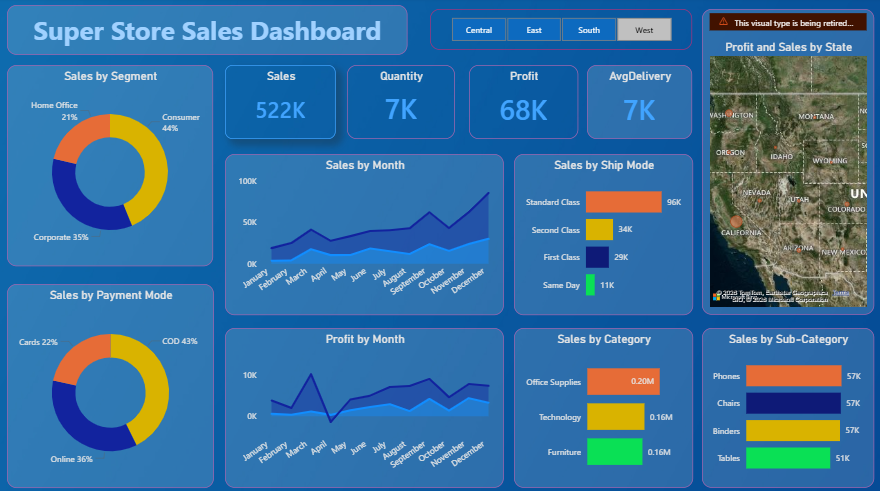

The dashboard page shown, as its layout file describes it:
{"tool":"powerbi","page":{"name":"Page 1","canvas":[1280,720],"ordinal":0},"visuals":[{"type":"clusteredBarChart","title":"Sales by Category","fields":{"Category":["SuperStore_Sales_Dataset.Category"],"Y":["Sum(SuperStore_Sales_Dataset.Sales)"]},"box":[747.5,478.6,258.8,231.3],"z":0},{"type":"clusteredBarChart","title":"Sales by Sub-Category","fields":{"Category":["SuperStore_Sales_Dataset.Sub-Category"],"Y":["Sum(SuperStore_Sales_Dataset.Sales)"]},"box":[1019.3,478.6,248.7,231.3],"z":1000},{"type":"clusteredBarChart","title":"Sales by Ship Mode","fields":{"Category":["SuperStore_Sales_Dataset.Ship Mode"],"Y":["Sum(SuperStore_Sales_Dataset.Sales)"]},"box":[747.5,227,258.8,232.8],"z":2000},{"type":"stackedAreaChart","title":"Sales by Month","fields":{"Y":["Sum(SuperStore_Sales_Dataset.Sales)"],"Category":["SuperStore_Sales_Dataset.Order Date.Variation.Date Hierarchy.Month"],"Series":["SuperStore_Sales_Dataset.Order Date.Variation.Date Hierarchy.Year"]},"box":[329.6,227,403.4,232.8],"z":3000},{"type":"stackedAreaChart","title":"Profit by Month","fields":{"Category":["SuperStore_Sales_Dataset.Order Date.Variation.Date Hierarchy.Month"],"Series":["SuperStore_Sales_Dataset.Order Date.Variation.Date Hierarchy.Year"],"Y":["Sum(SuperStore_Sales_Dataset.Profit)"]},"box":[329.6,478.6,403.4,231.3],"z":4000},{"type":"map","title":"Profit and Sales by State","fields":{"Category":["SuperStore_Sales_Dataset.State"],"Size":["Sum(SuperStore_Sales_Dataset.Sales)"]},"box":[1019.3,17.3,248.7,442.4],"z":5000},{"type":"donutChart","title":"Sales by Segment","fields":{"Category":["SuperStore_Sales_Dataset.Segment"],"Y":["Sum(SuperStore_Sales_Dataset.Sales)"]},"box":[14.5,98.3,297.8,290.6],"z":6000},{"type":"donutChart","title":"Sales by Payment Mode","fields":{"Category":["SuperStore_Sales_Dataset.Payment Mode"],"Y":["Sum(SuperStore_Sales_Dataset.Sales)"]},"box":[14.5,414.9,299.3,294.9],"z":7000},{"type":"slicer","fields":{"Values":["SuperStore_Sales_Dataset.Region"]},"box":[626,17.3,378.8,59.3],"z":8000},{"type":"textbox","box":[14.7,11.8,579.4,72.1],"z":9000},{"type":"cardVisual","title":"Quantity","fields":{"Data":["Sum(SuperStore_Sales_Dataset.Quantity)"]},"box":[506,98.3,156.1,107],"z":10000},{"type":"cardVisual","title":"Profit","fields":{"Data":["Sum(SuperStore_Sales_Dataset.Profit)"]},"box":[682.4,98.3,157.6,107],"z":11000},{"type":"cardVisual","title":"AvgDelivery","fields":{"Data":["Sum(SuperStore_Sales_Dataset.AvgDelivery)"]},"box":[853,98.3,151.8,107],"z":12000},{"type":"cardVisual","title":"Sales","fields":{"Data":["Sum(SuperStore_Sales_Dataset.Sales)"]},"box":[329.6,98.3,160.5,107],"z":13000}]}

Visuals, with their boxes in screenshot pixels (x1, y1, x2, y2), scaled from the page's 1280x720 canvas onto the 880x491 screenshot:
"Sales by Category" clusteredBarChart: [left=514, top=326, right=692, bottom=484]
"Sales by Sub-Category" clusteredBarChart: [left=701, top=326, right=872, bottom=484]
"Sales by Ship Mode" clusteredBarChart: [left=514, top=155, right=692, bottom=314]
"Sales by Month" stackedAreaChart: [left=227, top=155, right=504, bottom=314]
"Profit by Month" stackedAreaChart: [left=227, top=326, right=504, bottom=484]
"Profit and Sales by State" map: [left=701, top=12, right=872, bottom=313]
"Sales by Segment" donutChart: [left=10, top=67, right=215, bottom=265]
"Sales by Payment Mode" donutChart: [left=10, top=283, right=216, bottom=484]
slicer - SuperStore_Sales_Dataset.Region: [left=430, top=12, right=691, bottom=52]
textbox: [left=10, top=8, right=408, bottom=57]
"Quantity" cardVisual: [left=348, top=67, right=455, bottom=140]
"Profit" cardVisual: [left=469, top=67, right=578, bottom=140]
"AvgDelivery" cardVisual: [left=586, top=67, right=691, bottom=140]
"Sales" cardVisual: [left=227, top=67, right=337, bottom=140]
